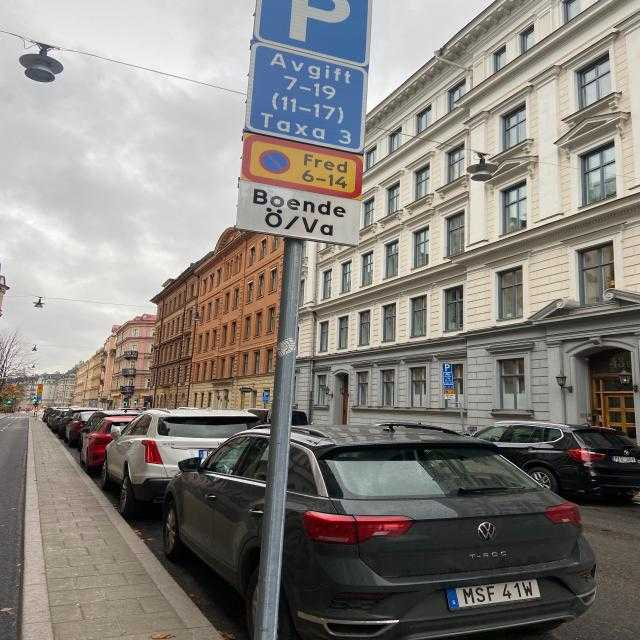psign: (253, 0, 372, 67), (443, 363, 452, 373)
